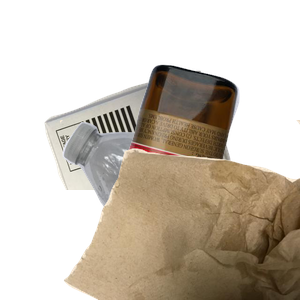glass: (113, 62, 300, 242)
paper: (42, 68, 275, 248)
plastic: (60, 120, 300, 300)
trash: (60, 120, 300, 300)
